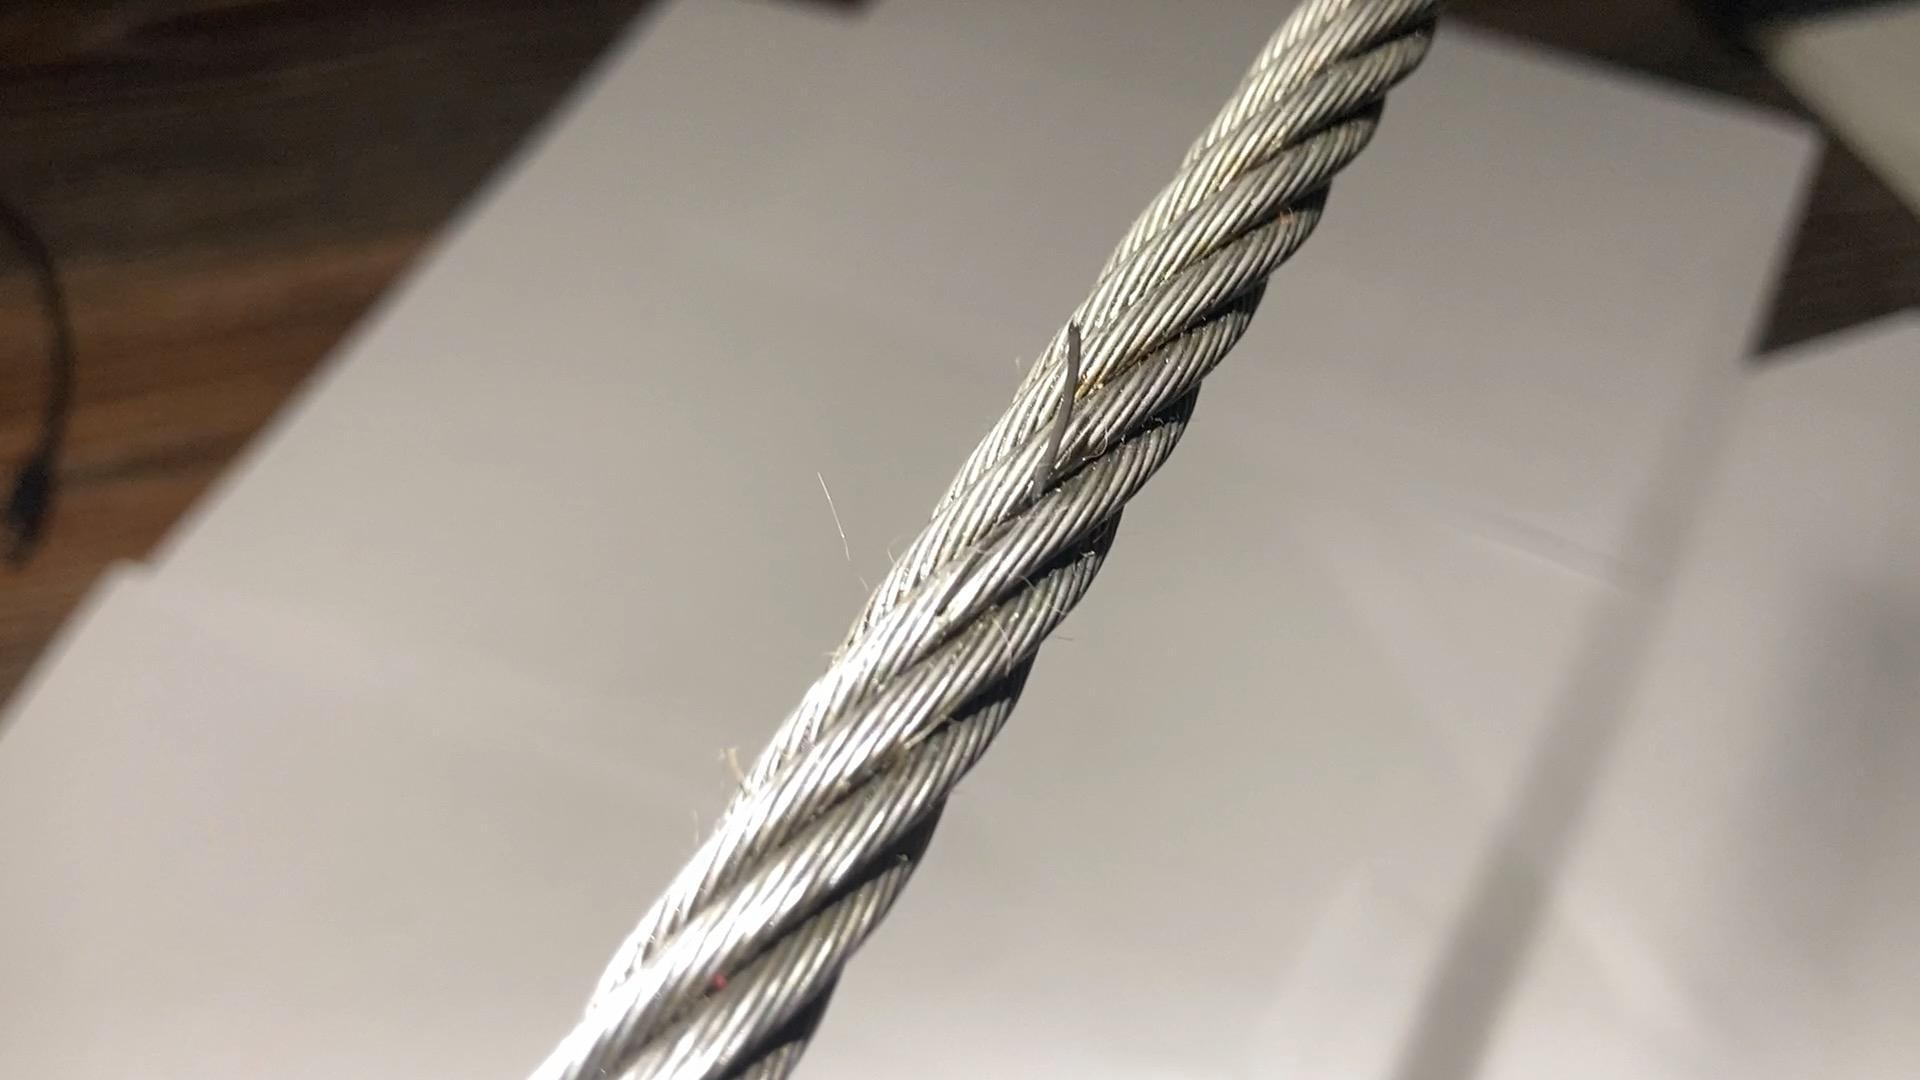break: (1031, 334, 1110, 460)
